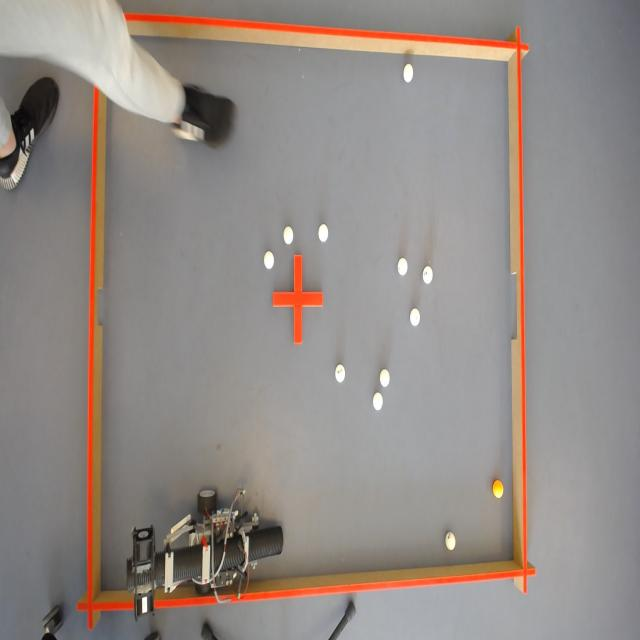orange: (493, 480, 504, 499)
robot: (126, 490, 283, 618)
robot-front: (254, 526, 283, 560)
white: (423, 264, 434, 283), (264, 249, 274, 269), (404, 62, 414, 81), (380, 368, 390, 387), (446, 532, 456, 551), (410, 308, 421, 325), (335, 364, 345, 382), (373, 392, 383, 410), (398, 257, 408, 274), (319, 223, 328, 241), (284, 225, 293, 243)
